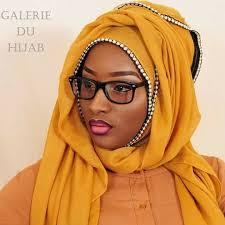No Mask: (61, 35, 169, 164)
